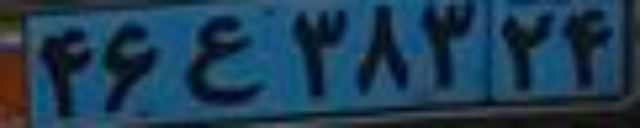2: (498, 14, 558, 90)
3: (291, 10, 346, 97), (422, 2, 476, 88)
4: (39, 26, 96, 117), (566, 9, 625, 89)
6: (100, 24, 159, 113)
8: (357, 5, 415, 91)
ain: (185, 14, 260, 107)
